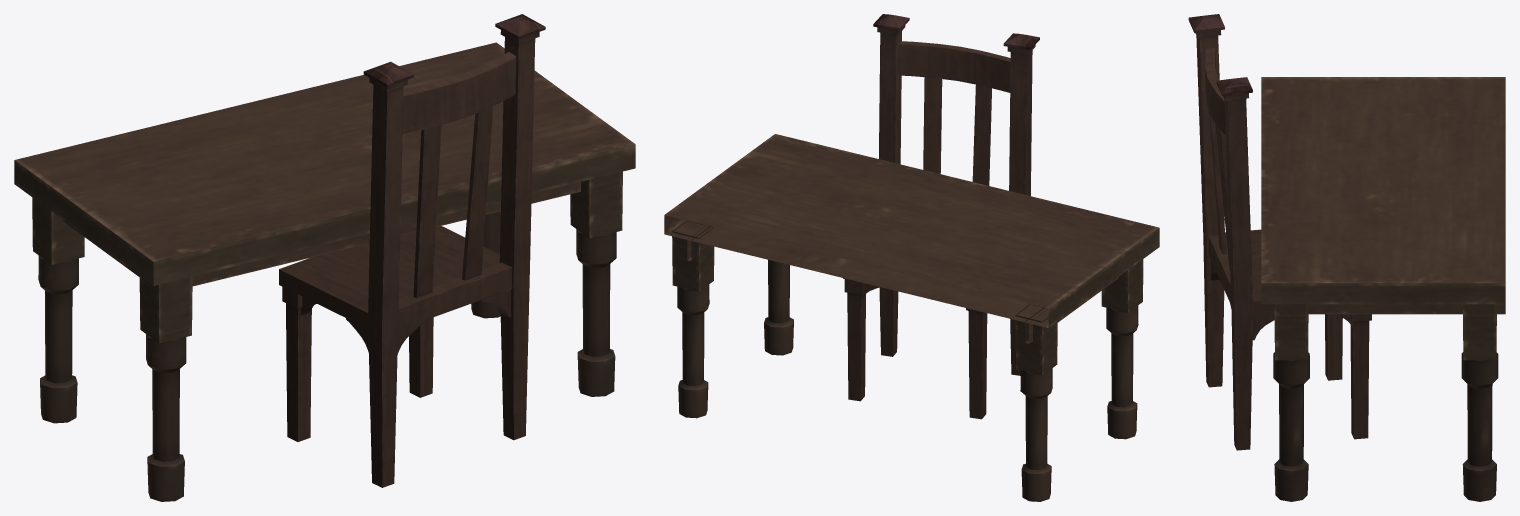
The model's file is silla mesa.fbx.
3 views of the same model, side by side, from view 1: azimuth 30°, elevation 25°; view 2: azimuth 150°, elevation 25°; view 3: azimuth 270°, elevation 25° (orthographic). The views are drawn at different scales.
Visible parts, largest first — view 1: smalltable04_mesh, smalltable04_mesh.001; view 2: smalltable04_mesh, smalltable04_mesh.001; view 3: smalltable04_mesh, smalltable04_mesh.001.
Boxes of the visible parts, box(x1,y1,x2,y2) form: smalltable04_mesh: box(14, 42, 635, 501); smalltable04_mesh.001: box(279, 14, 545, 487); smalltable04_mesh: box(664, 134, 1159, 501); smalltable04_mesh.001: box(843, 14, 1039, 419); smalltable04_mesh: box(1261, 77, 1505, 501); smalltable04_mesh.001: box(1188, 14, 1371, 450).
Bounding box in the file's own units: 1.57 × 1.31 × 1.02.
1 material, 1 textured.
